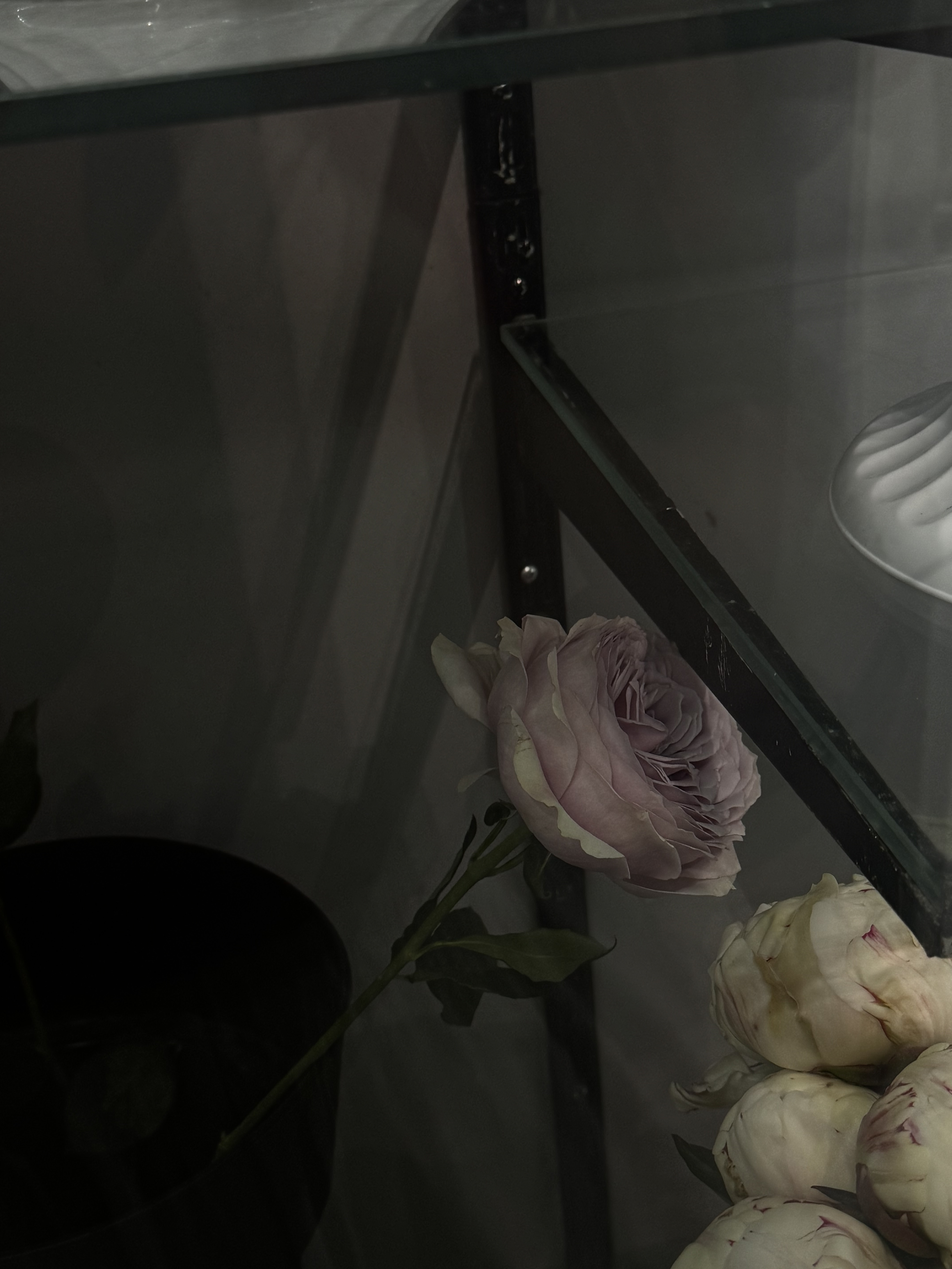rose: (426, 563, 772, 926)
